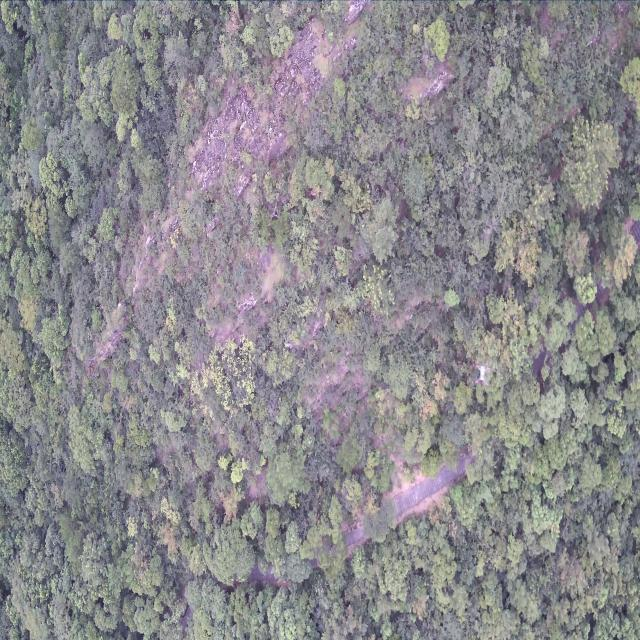UAV: (475, 365, 490, 385)
